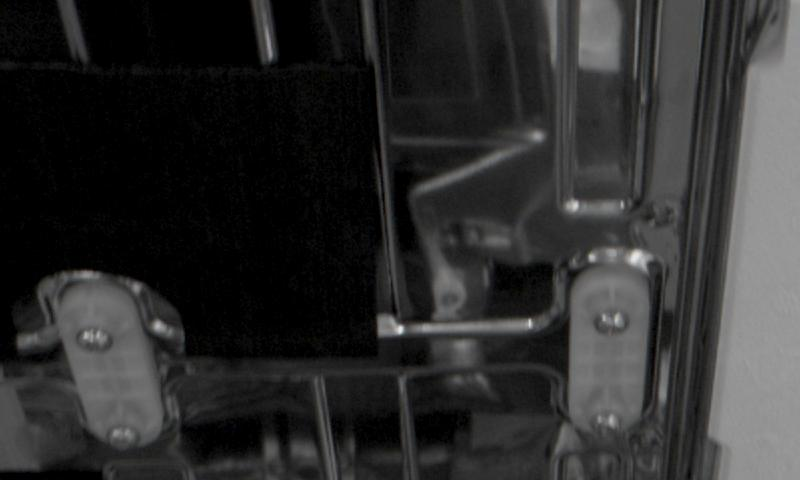vida-ok: (66, 318, 116, 363), (587, 297, 633, 340), (583, 401, 628, 440), (101, 416, 146, 455)
